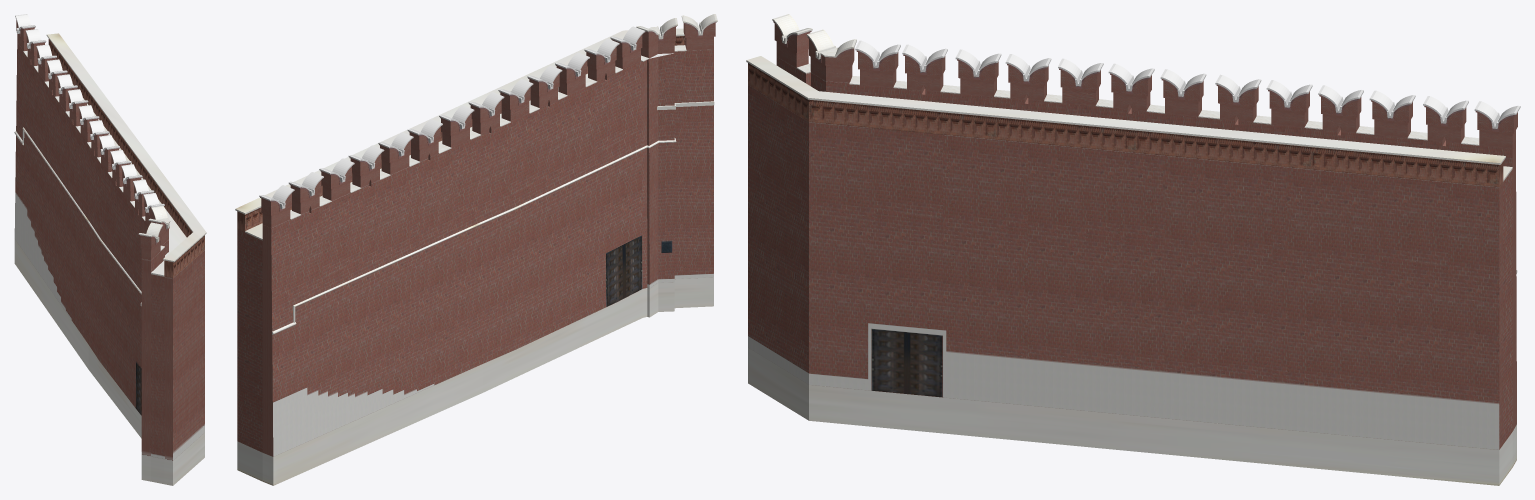
The model's file is 01080_Kremlevskaya_stena_7.FBX.
3 renders of one model, left to right at view 1: azimuth 30°, elevation 25°; view 2: azimuth 150°, elevation 25°; view 3: azimuth 270°, elevation 25°, orthographic. The views are drawn at different scales.
Parts seen in each view (by area): view 1: Group_121, Group_144, Group_149, Group_135, Group_150, Group_115, Group_136, Group_142, Group_134, Group_137, Group_129, Group_006 (+1 smaller); view 2: Group_121, Group_149, Group_115, Group_145, Group_130, Group_113, Group_120, Group_135, Group_140, Group_147, Group_129, Group_114 (+1 smaller); view 3: Group_143, Group_149, Group_144, Group_138, Group_135, Group_146, Group_132, Group_145, Group_137, Group_113, Group_140.
Part boxes in pixels (<box>): Group_121: <box>14,43,148,415</box>; Group_144: <box>173,250,204,460</box>; Group_149: <box>14,239,204,485</box>; Group_135: <box>46,33,206,262</box>; Group_150: <box>151,274,164,458</box>; Group_115: <box>141,247,164,456</box>; Group_136: <box>48,39,192,278</box>; Group_142: <box>164,276,172,460</box>; Group_134: <box>73,84,186,276</box>; Group_137: <box>173,235,204,277</box>; Group_129: <box>22,127,100,239</box>; Group_006: <box>141,241,160,260</box>; Group_121: <box>271,61,642,456</box>; Group_149: <box>237,277,713,485</box>; Group_115: <box>674,49,713,279</box>; Group_145: <box>245,233,262,452</box>; Group_130: <box>658,53,674,282</box>; Group_113: <box>262,225,273,456</box>; Group_120: <box>648,57,658,287</box>; Group_135: <box>235,28,684,214</box>; Group_140: <box>237,229,244,444</box>; Group_147: <box>641,60,647,288</box>; Group_129: <box>293,208,515,322</box>; Group_114: <box>647,59,649,288</box>; Group_143: <box>809,122,1499,449</box>; Group_149: <box>748,347,1516,485</box>; Group_144: <box>748,85,808,384</box>; Group_138: <box>809,99,1499,187</box>; Group_135: <box>746,56,1505,164</box>; Group_146: <box>1146,112,1512,166</box>; Group_132: <box>860,85,1146,121</box>; Group_145: <box>1503,169,1512,443</box>; Group_137: <box>748,63,808,121</box>; Group_113: <box>1512,144,1516,430</box>; Group_140: <box>1499,182,1503,449</box>.
Size of the model in its own units: 14.07 by 19.77 by 39.05.
15 materials, 13 textured.
